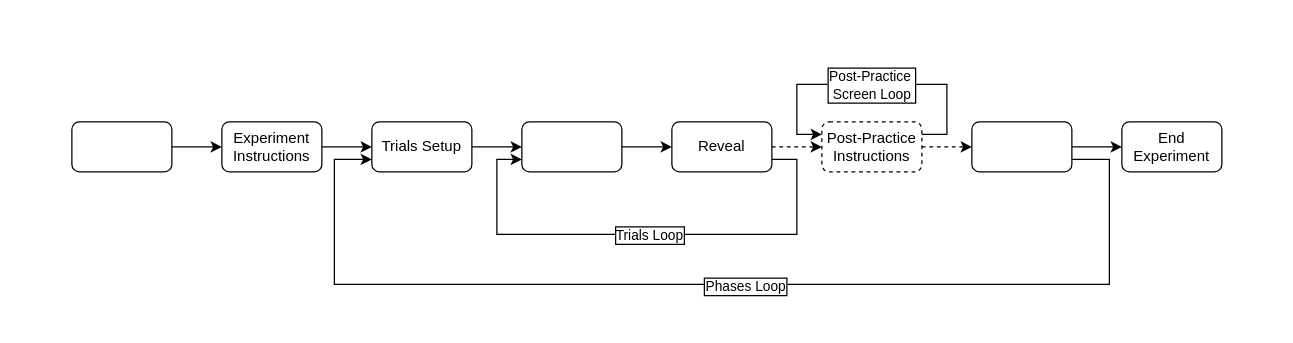
Some shapes in this 1293 by 343 pixel diagram are drawn without their labels. The shapes that lost their labels are listed below. From the top down, each one's centre as x and y in pixels, then its label:
point 121,146: Setup
point 571,146: Choose
point 1021,146: Transition
